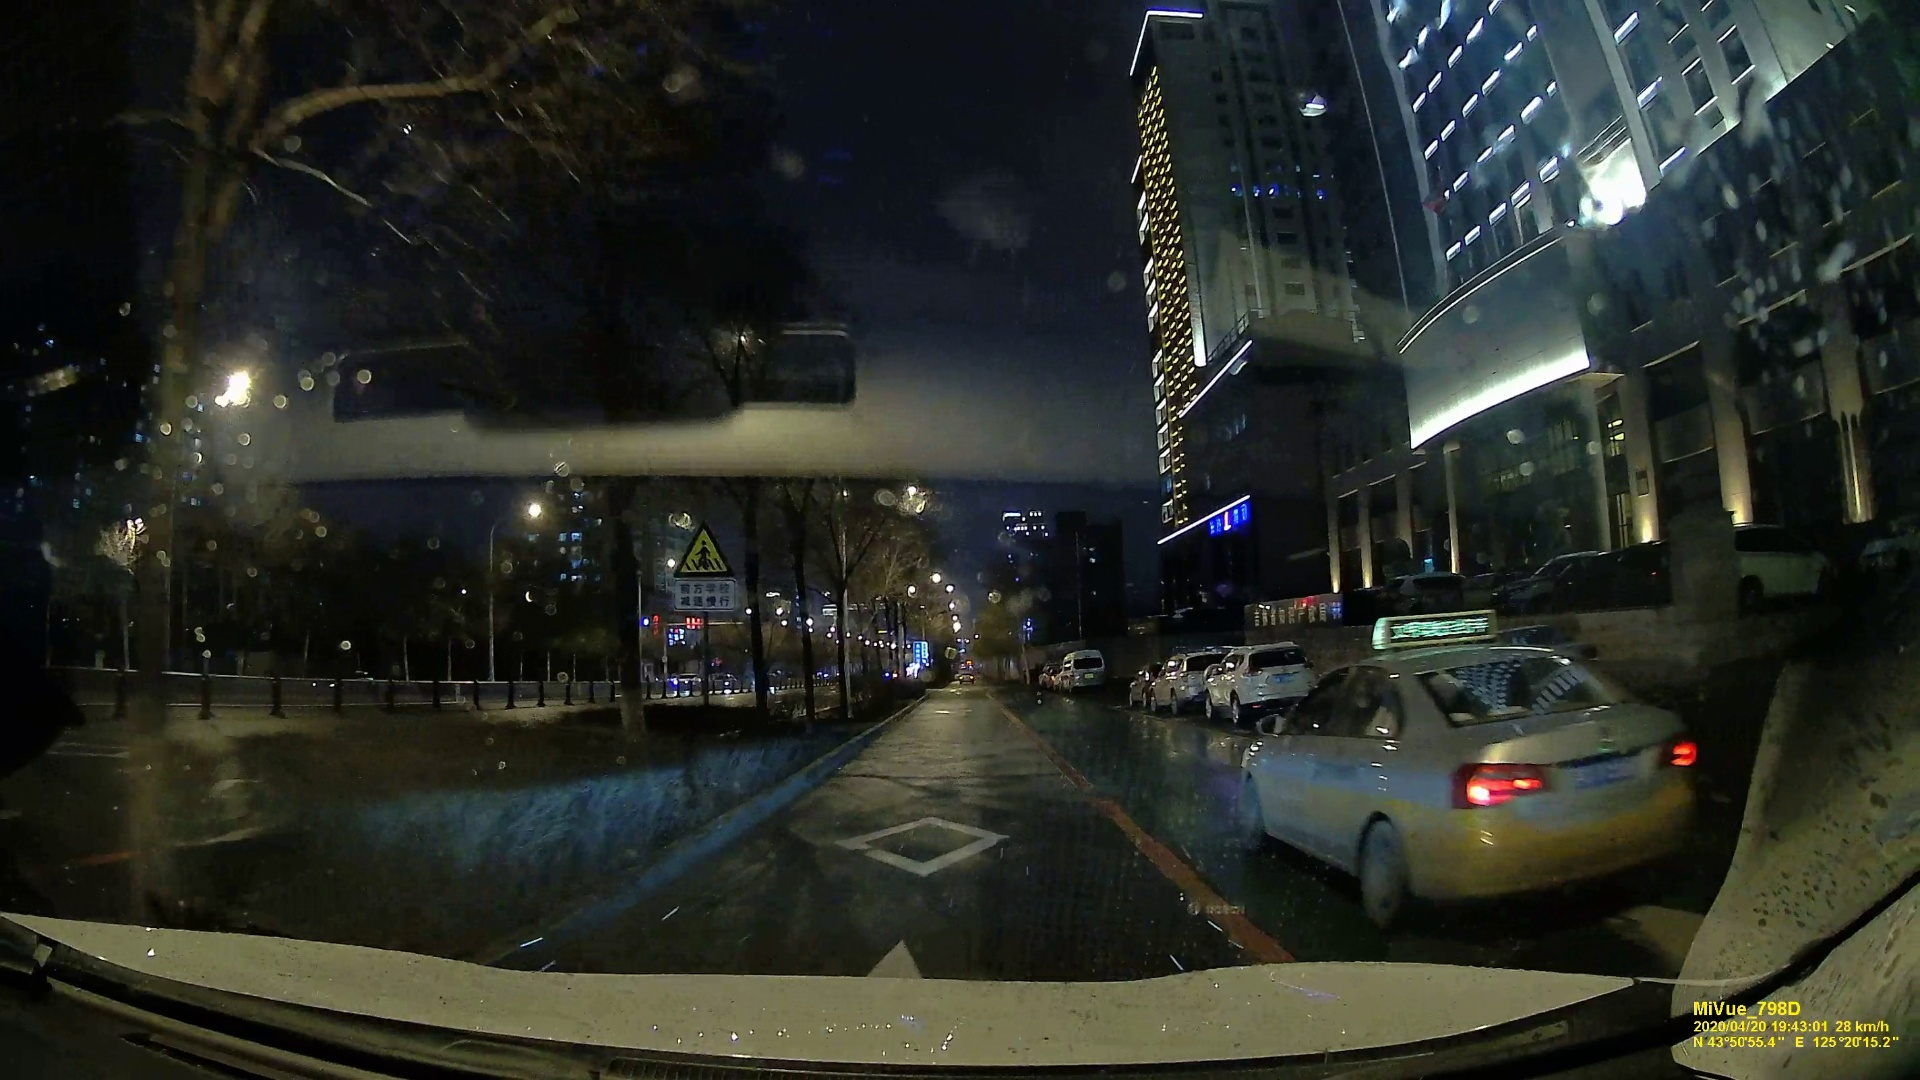minibus: (1060, 651, 1106, 695)
traffic_sign: (673, 522, 735, 615), (913, 641, 928, 671)
vehicle: (1247, 644, 1691, 923), (957, 673, 975, 684)
